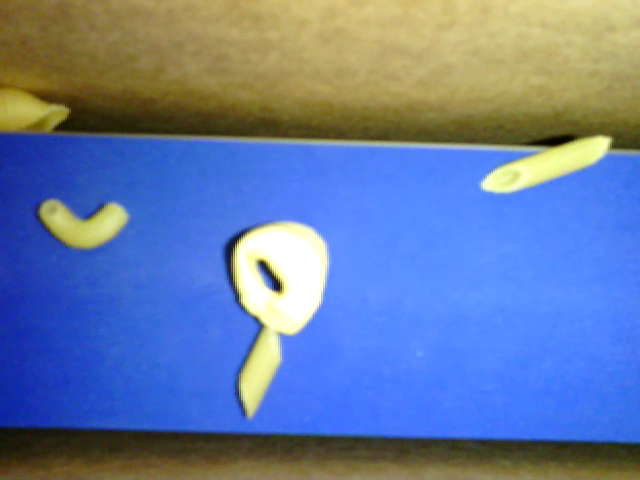elbow: (30, 195, 139, 248)
penne: (473, 128, 620, 201), (235, 309, 287, 421)
shell: (2, 84, 81, 134)
tortellini: (230, 215, 330, 336)
